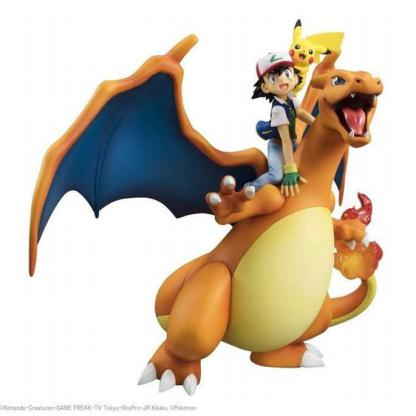Charizard: (35, 83, 382, 395)
